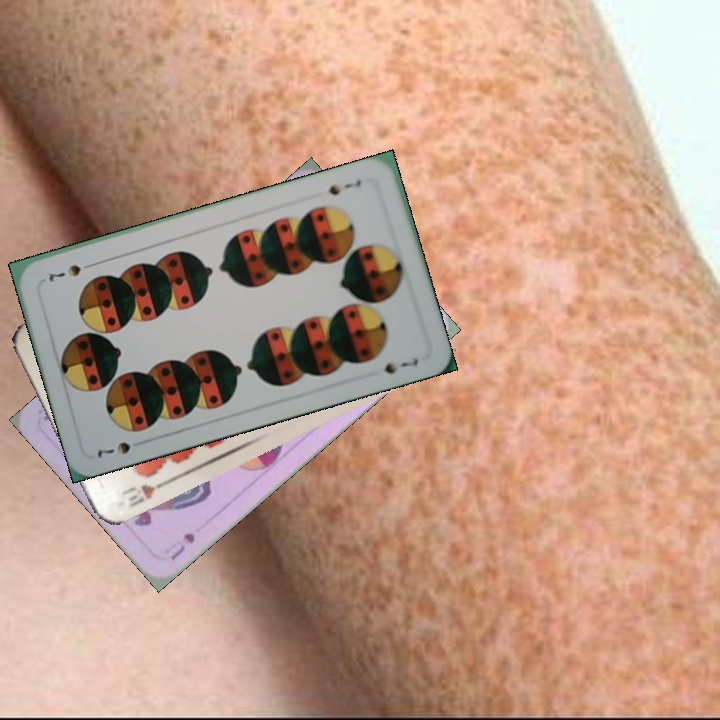H10: (117, 476, 171, 511)
S7: (93, 436, 149, 462), (324, 175, 364, 198)
SU: (160, 529, 198, 563)
